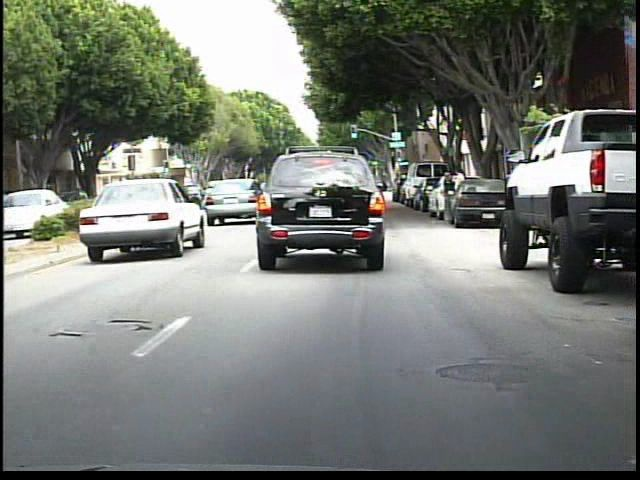person: (441, 173, 458, 228), (451, 166, 468, 220)
